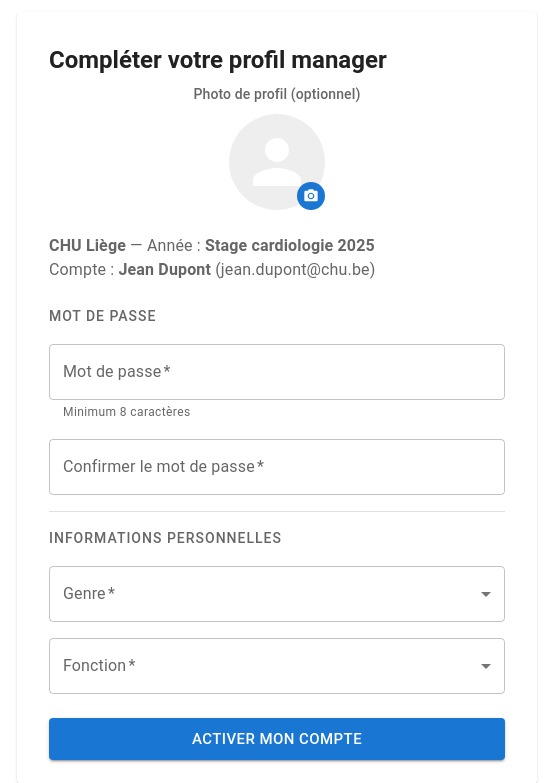
Test: ManagerSetupPage › shows error when passwords do not match
Type "Secure123" into the password field labelled "Mot de passe *" at [277, 372], box [49,344,505,400]
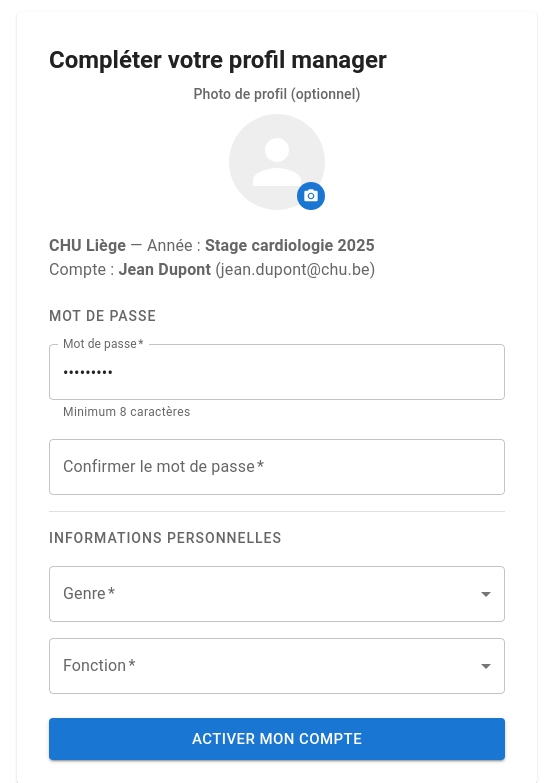
Type "Different!" into the password field labelled "Confirmer le mot de passe *" at [277, 467], box [49,439,505,495]
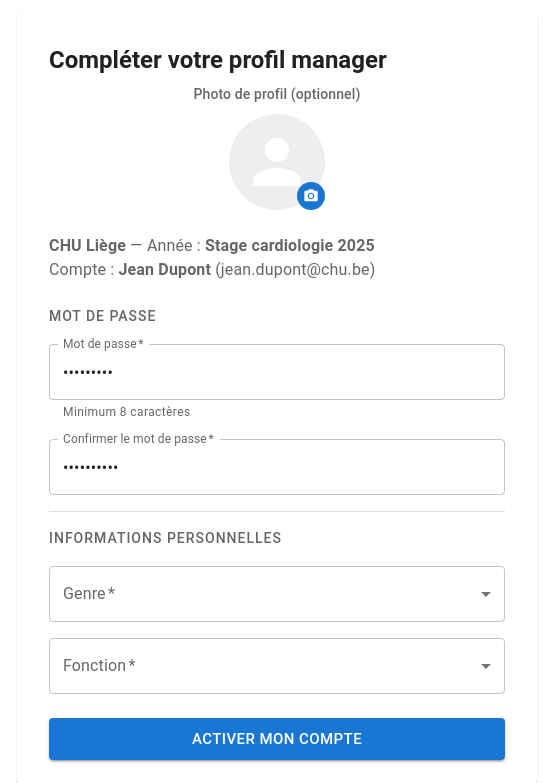
Submit the form named "Activer", box [49,306,505,760]
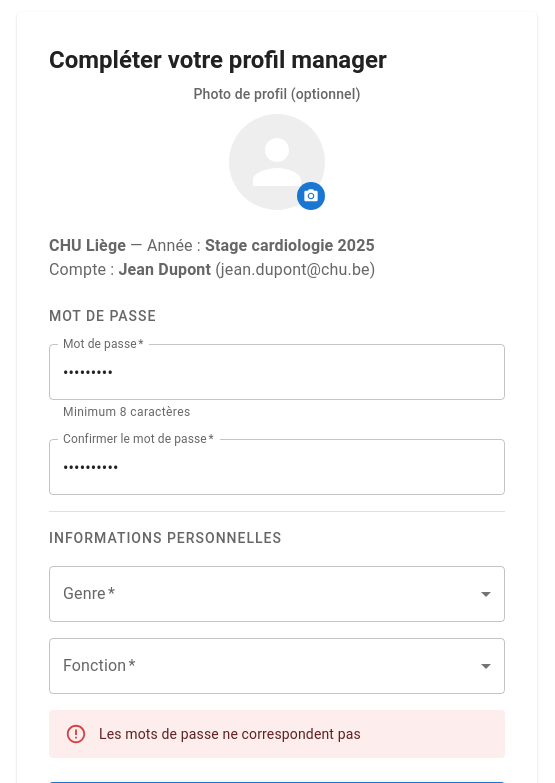
Expected: the text "Les mots de passe ne correspondent pas" is shown, [99,726,361,742]
